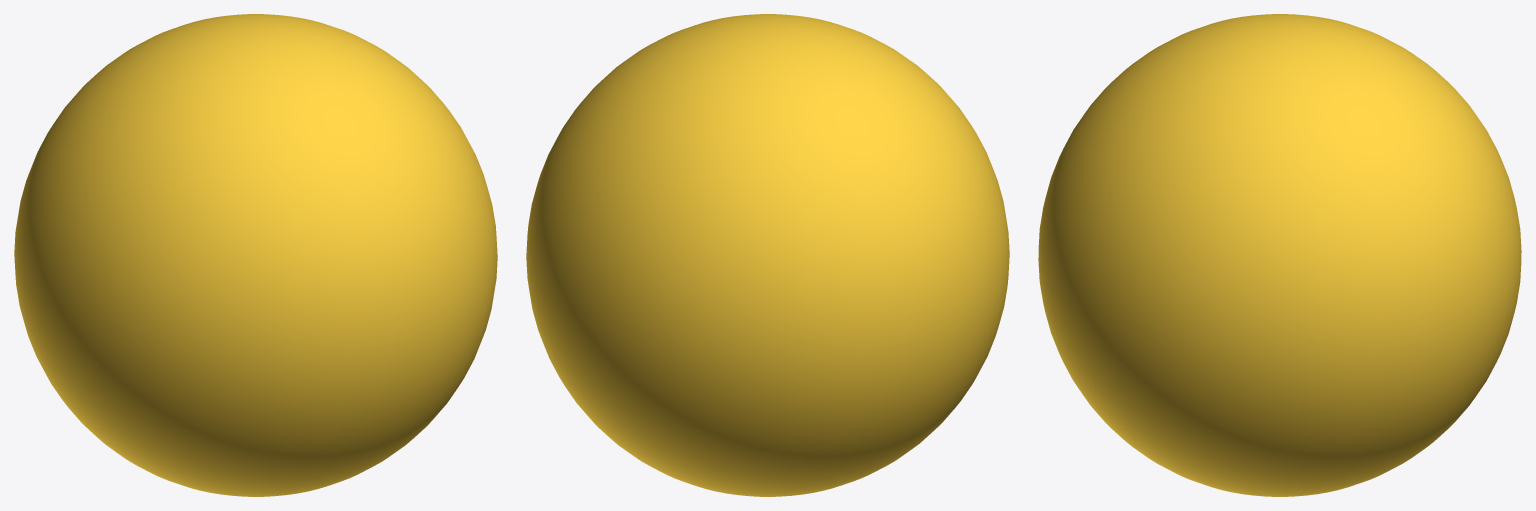
The model's file is Gold_Sphere_Interactive.glb.
3 renders of one model, left to right at view 1: azimuth 30°, elevation 25°; view 2: azimuth 150°, elevation 25°; view 3: azimuth 270°, elevation 25°, orthographic.
Visible parts, largest first — view 1: Gold_Sphere; view 2: Gold_Sphere; view 3: Gold_Sphere.
Part boxes in pixels (x1,y1,x2,y2): Gold_Sphere: (14,14,497,496); Gold_Sphere: (526,14,1009,496); Gold_Sphere: (1038,14,1521,496).
Size of the model in its own units: 2 by 2 by 2.
